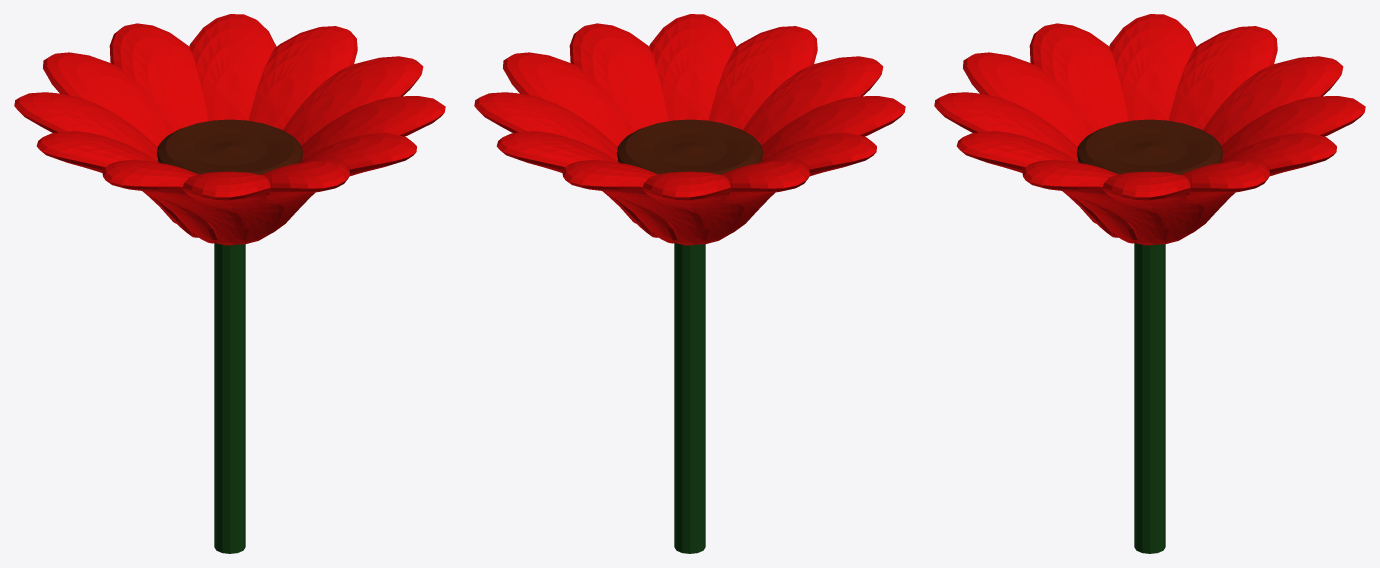
File: RedOption.fbx
3 views of the same model, side by side, from view 1: azimuth 30°, elevation 25°; view 2: azimuth 150°, elevation 25°; view 3: azimuth 270°, elevation 25° (orthographic).
Visible parts, largest first — view 1: Flower_0_0; view 2: Flower_0_0; view 3: Flower_0_0.
Boxes of the visible parts, x1,y1,x2,y2 form: Flower_0_0: (14, 14, 445, 553); Flower_0_0: (474, 14, 905, 553); Flower_0_0: (934, 14, 1365, 553).
Size of the model in its own units: 1.58 by 1.81 by 1.58.
